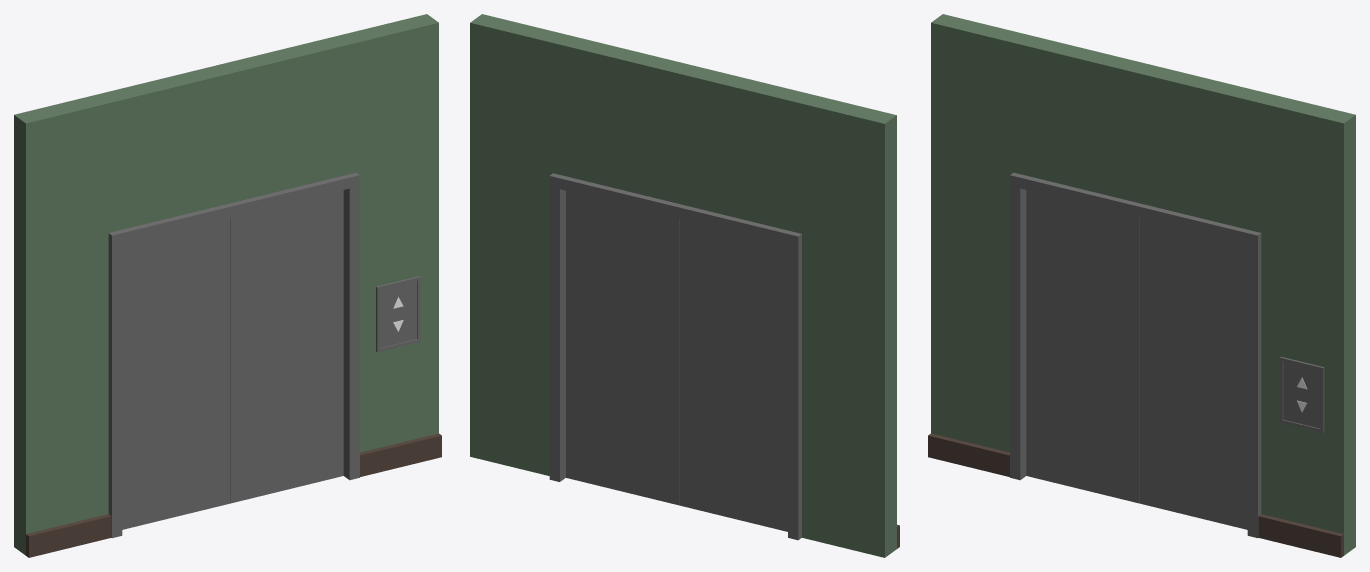
File: h_wall_1_elevatorDoor.fbx
3 renders of one model, left to right at view 1: azimuth 30°, elevation 25°; view 2: azimuth 150°, elevation 25°; view 3: azimuth 330°, elevation 25°, orthographic.
Parts seen in each view (by area): view 1: Cube, Door_R, Door_L, Buttons; view 2: Cube, Door_R, Door_L; view 3: Cube, Door_L, Door_R, Buttons.
Part boxes in pixels (bbox=[...]): Cube: bbox=[14, 14, 441, 557]; Door_R: bbox=[230, 190, 343, 503]; Door_L: bbox=[122, 218, 229, 529]; Buttons: bbox=[376, 276, 420, 352]; Cube: bbox=[470, 14, 899, 557]; Door_R: bbox=[566, 191, 679, 505]; Door_L: bbox=[680, 218, 787, 531]; Cube: bbox=[928, 14, 1355, 557]; Door_L: bbox=[1026, 190, 1139, 503]; Door_R: bbox=[1140, 218, 1247, 529]; Buttons: bbox=[1280, 356, 1324, 432].
Bounding box in the file's own units: 400 × 400 × 32.
